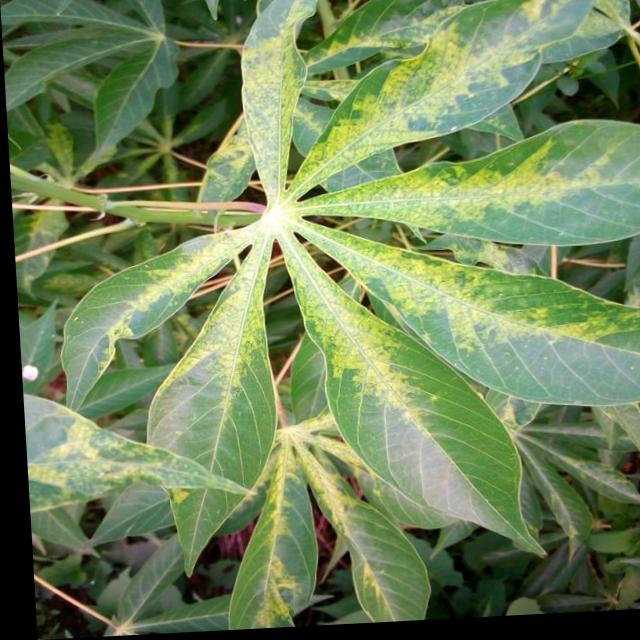Mosaico: (157, 11, 637, 497), (129, 387, 573, 617)
